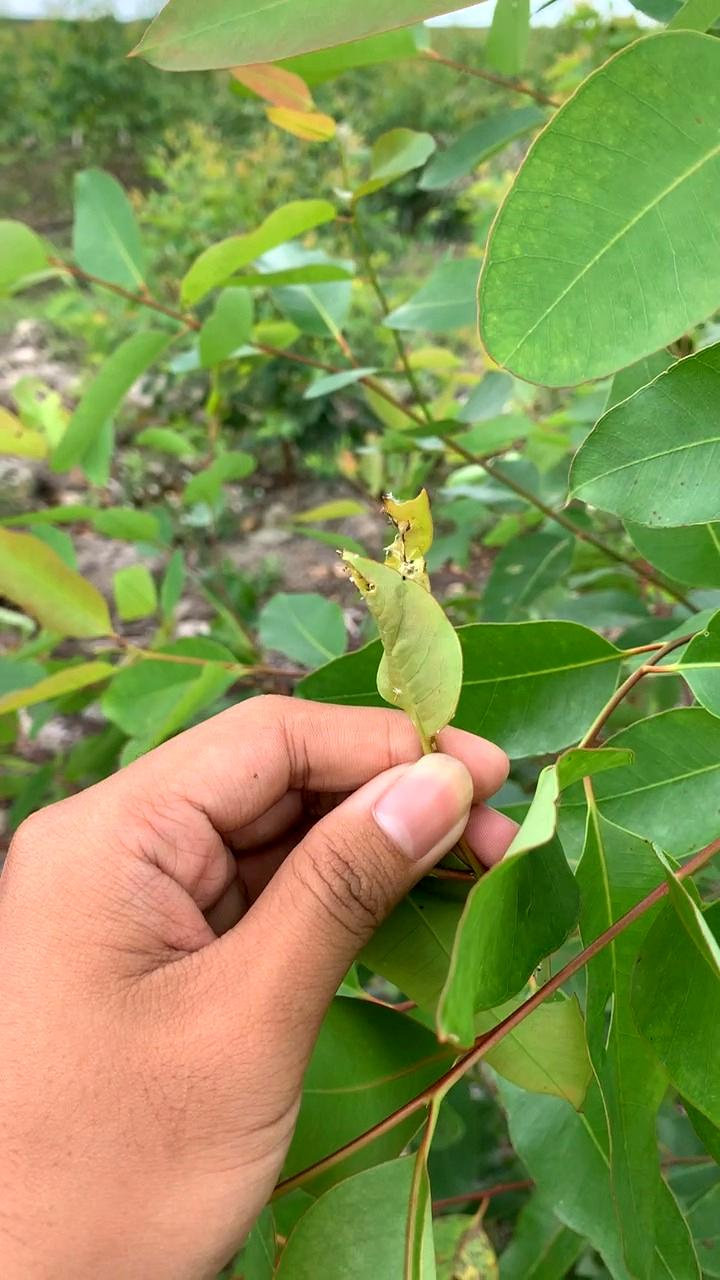Leaf Roller - Leaf: (335, 474, 478, 746)
